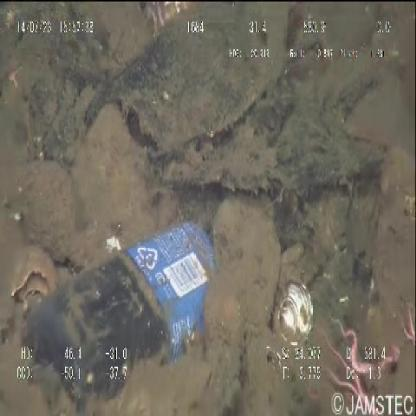Rác: (20, 221, 220, 415)
